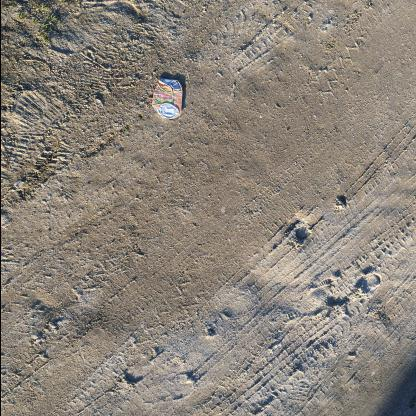metal: (151, 79, 183, 121)
